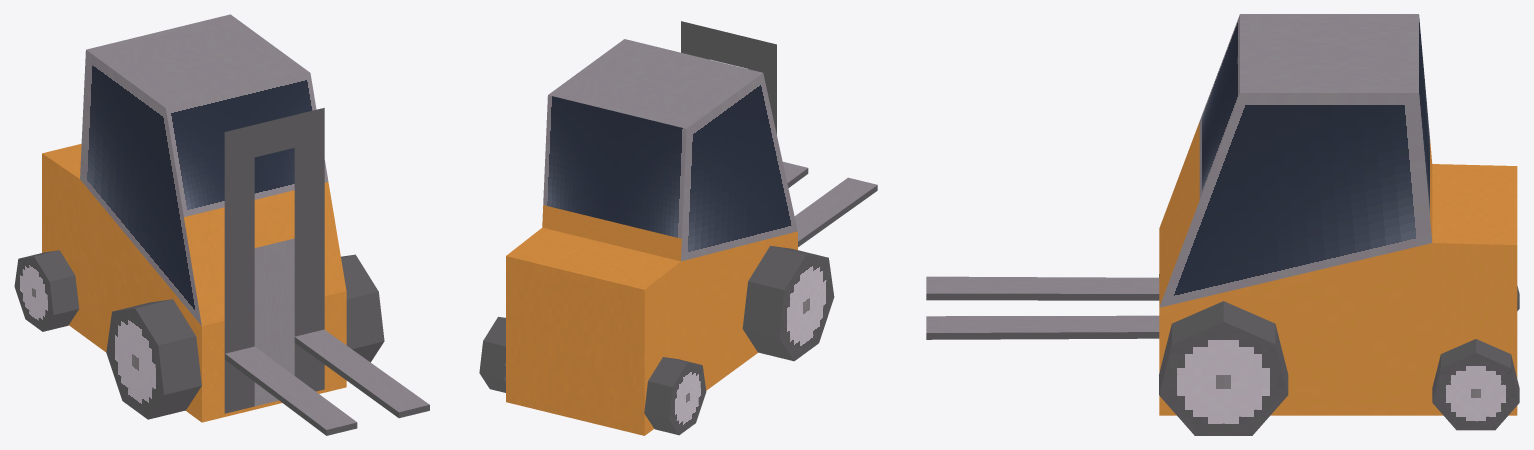
File: forklift.gltf
The picture shows the model from 3 angles, left to right: view 1: azimuth 30°, elevation 25°; view 2: azimuth 150°, elevation 25°; view 3: azimuth 270°, elevation 25°; orthographic projection. The views are drawn at different scales.
Visible parts, largest first — view 1: forklift-cab, fork; view 2: forklift-cab, fork; view 3: forklift-cab, fork.
Part boxes in pixels (left/top/right/bottom): forklift-cab: left=14, top=14, right=384, bottom=422; fork: left=225, top=329, right=429, bottom=435; forklift-cab: left=479, top=21, right=834, bottom=435; fork: left=783, top=162, right=877, bottom=246; forklift-cab: left=1159, top=14, right=1519, bottom=435; fork: left=926, top=276, right=1159, bottom=339.
Size of the model in its own units: 1.93 by 2.4 by 4.01.
2 materials, 1 textured.
